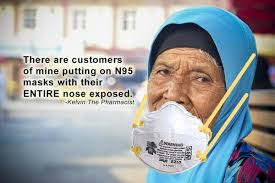mask_weared_incorrect: (143, 60, 216, 151)
